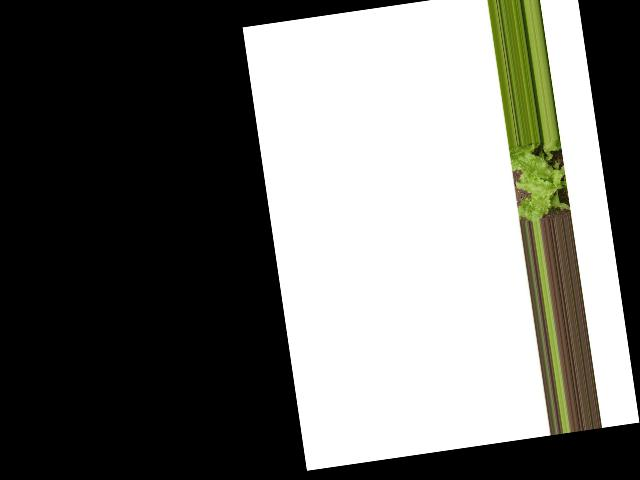lettuce: (510, 138, 574, 222)
